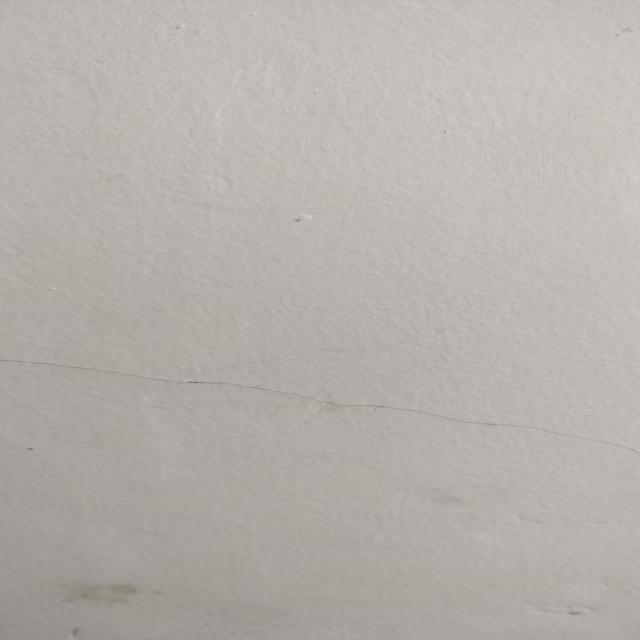Crack: (5, 354, 640, 454)
